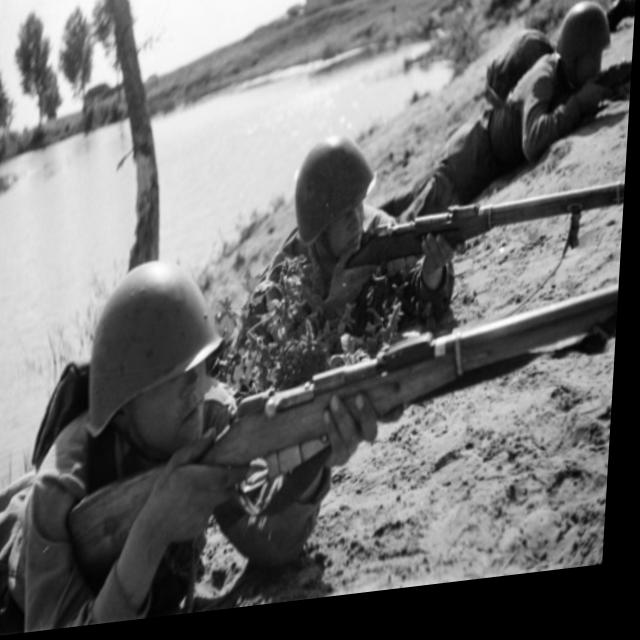other: (0, 257, 261, 640), (229, 123, 472, 401), (396, 0, 635, 221)
